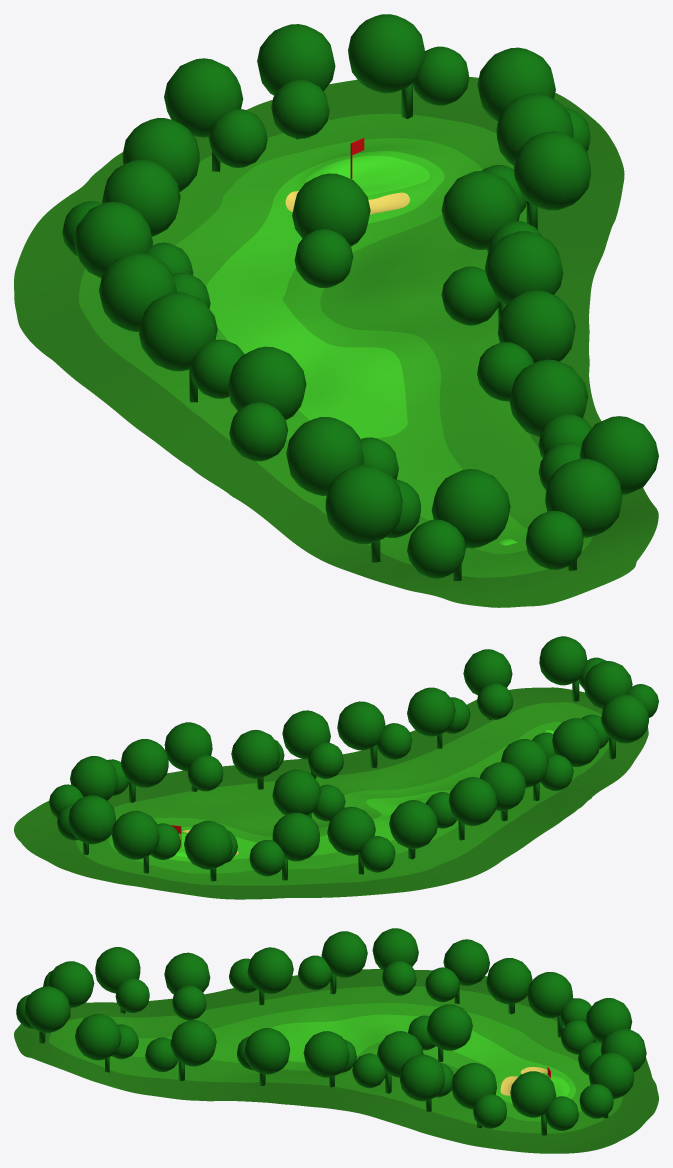
Rendered from cut.glb.
3 views of the same model, one above another, from view 1: azimuth 30°, elevation 25°; view 2: azimuth 150°, elevation 25°; view 3: azimuth 270°, elevation 25° (orthographic). The views are drawn at different scales.
Visible parts, largest first — view 1: OB, heavy-rough, rough, fairway, Sphere.010, Sphere.022, Sphere.012, Sphere.020, Sphere.017, Sphere.004, Sphere.018, Sphere.006 (+16 smaller); view 2: OB, heavy-rough, rough, Sphere.003, Sphere.013, Sphere.014, Sphere.004, Sphere.007, Sphere.011, Sphere.016, Sphere.001, Sphere.006 (+14 smaller); view 3: OB, heavy-rough, rough, fairway, Sphere.017, Sphere.009, Sphere.002, Sphere.015, Sphere.008, Sphere.021, Sphere.010, Sphere.018 (+15 smaller).
Boxes of the visible parts, box(x1,y1,x2,y2) form: OB: box(14, 77, 658, 607); heavy-rough: box(79, 113, 592, 577); rough: box(176, 138, 527, 554); fairway: box(207, 152, 440, 436); Sphere.010: box(348, 14, 469, 118); Sphere.022: box(407, 469, 510, 581); Sphere.012: box(164, 58, 267, 171); Sphere.020: box(526, 458, 622, 570); Sphere.017: box(139, 292, 244, 402); Sphere.004: box(441, 231, 563, 327); Sphere.018: box(227, 346, 306, 461); Sphere.006: box(292, 173, 370, 288); OB: box(14, 687, 648, 899); heavy-rough: box(75, 702, 608, 885); rough: box(108, 721, 561, 873); Sphere.003: box(337, 701, 412, 767); Sphere.013: box(249, 812, 319, 880); Sphere.014: box(327, 806, 395, 874); Sphere.004: box(282, 710, 344, 778); Sphere.007: box(164, 722, 223, 791); Sphere.011: box(111, 810, 180, 873); Sphere.016: box(425, 777, 497, 840); Sphere.001: box(463, 649, 513, 719); Sphere.006: box(272, 769, 345, 821); OB: box(14, 969, 658, 1153); heavy-rough: box(49, 986, 622, 1133); rough: box(131, 1003, 590, 1121); fairway: box(273, 1015, 573, 1102); Sphere.017: box(298, 931, 367, 994); Sphere.009: box(510, 1071, 578, 1135); Sphere.002: box(145, 1020, 216, 1081); Sphere.015: box(425, 939, 489, 1003); Sphere.008: box(451, 1063, 506, 1128); Sphere.021: box(95, 947, 149, 1013); Sphere.010: box(579, 1052, 634, 1118); Sphere.018: box(229, 947, 293, 1005).
Bounding box in the file's own units: 1.46 × 0.3071 × 2.12.
